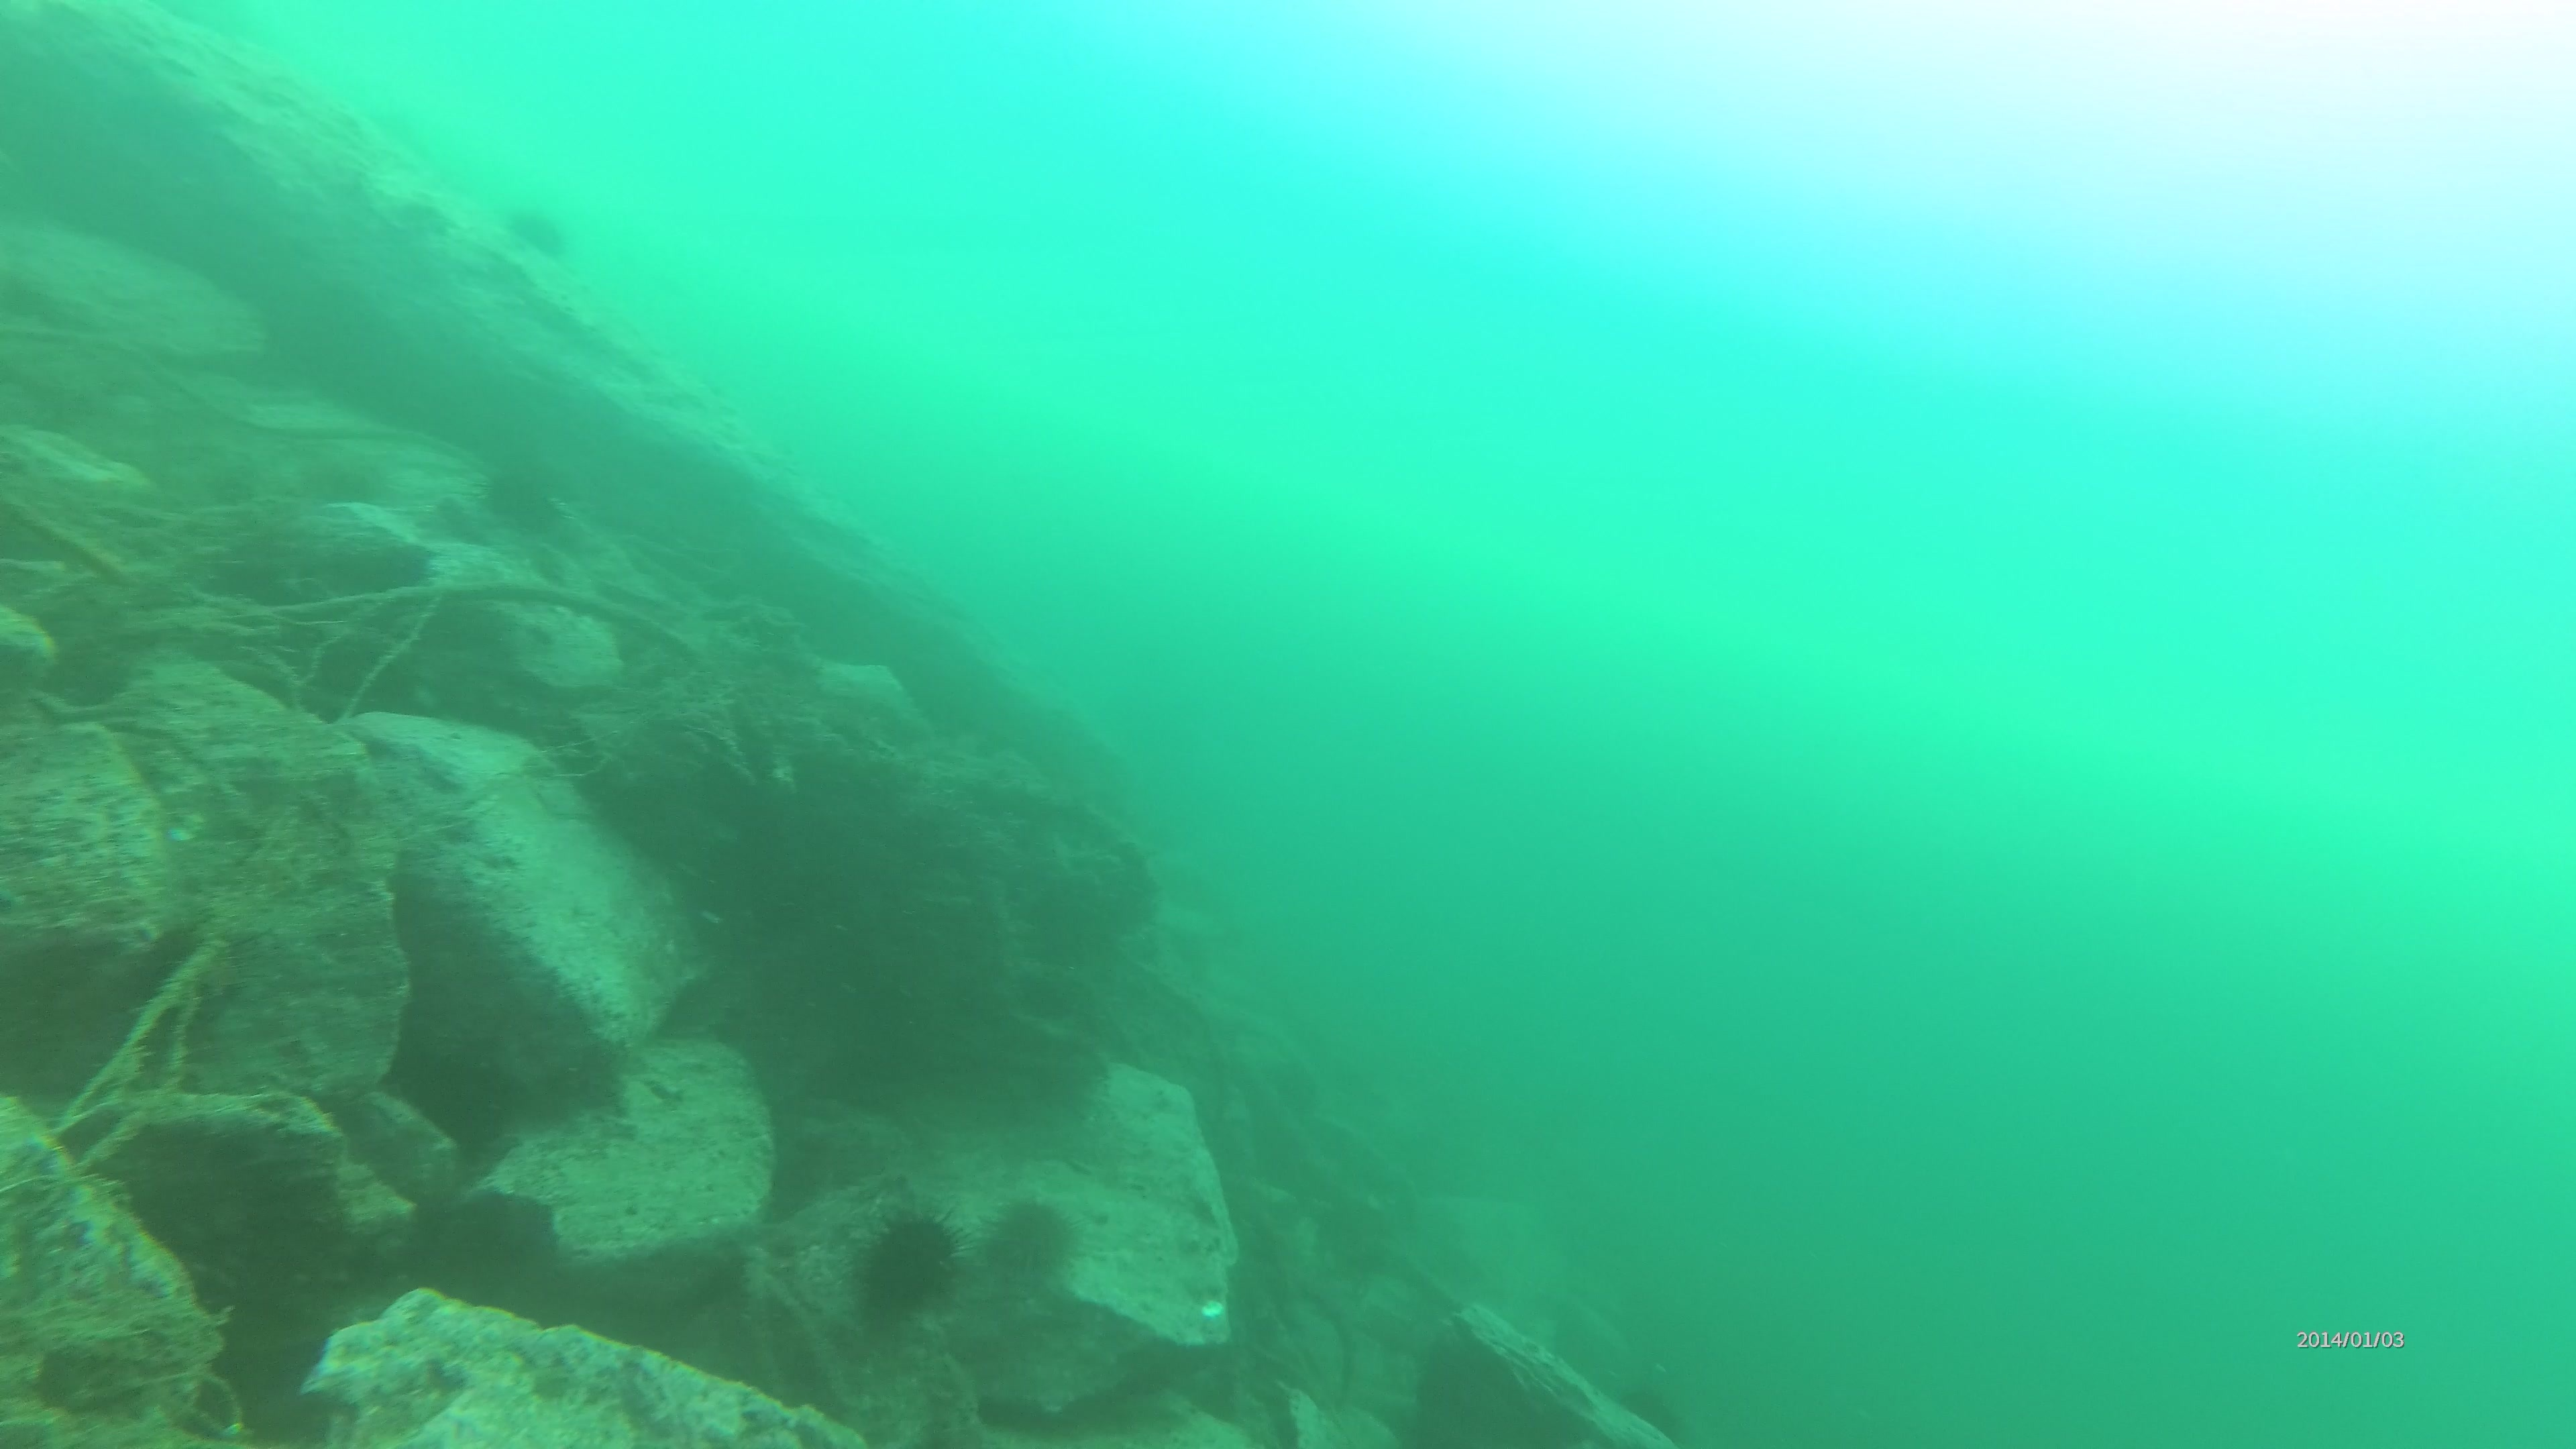echinus: (849, 1189, 970, 1339), (978, 1182, 1085, 1292), (1610, 1373, 1704, 1449), (478, 460, 566, 538), (502, 202, 582, 274)
